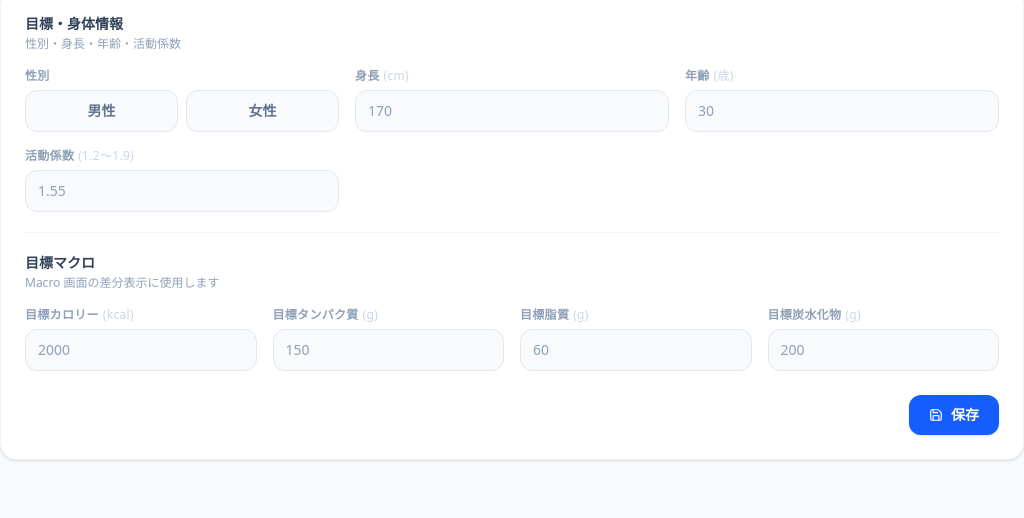
Test: SettingsForm — 保存失敗（バリデーションエラー） › フィールドエラーメッセージが該当フィールドの下に表示される
Click the button "保存".
click(954, 415)  # box [909, 395, 999, 435]
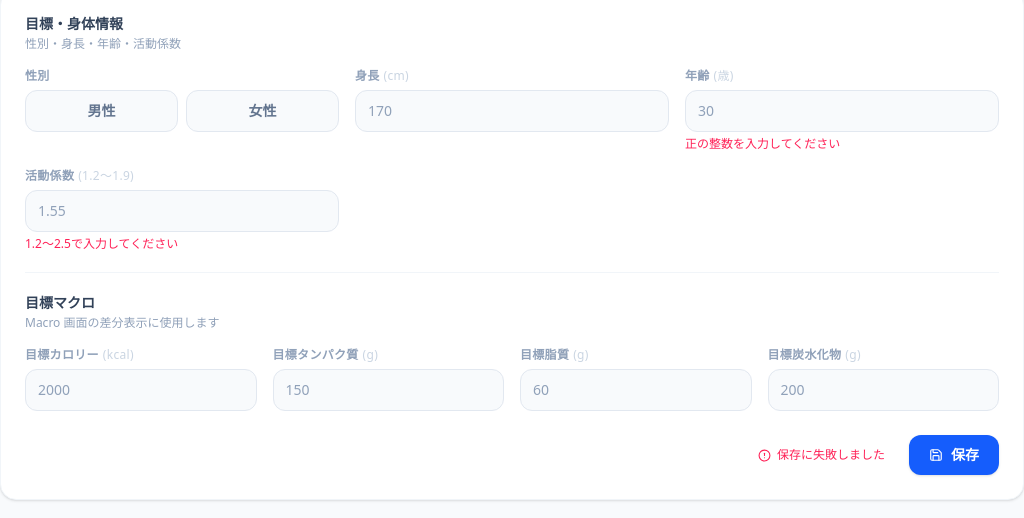
Result: the text "1.2〜2.5で入力してください" is shown at [25, 235, 178, 252]
Result: the text "正の整数を入力してください" is shown at [685, 135, 840, 152]
